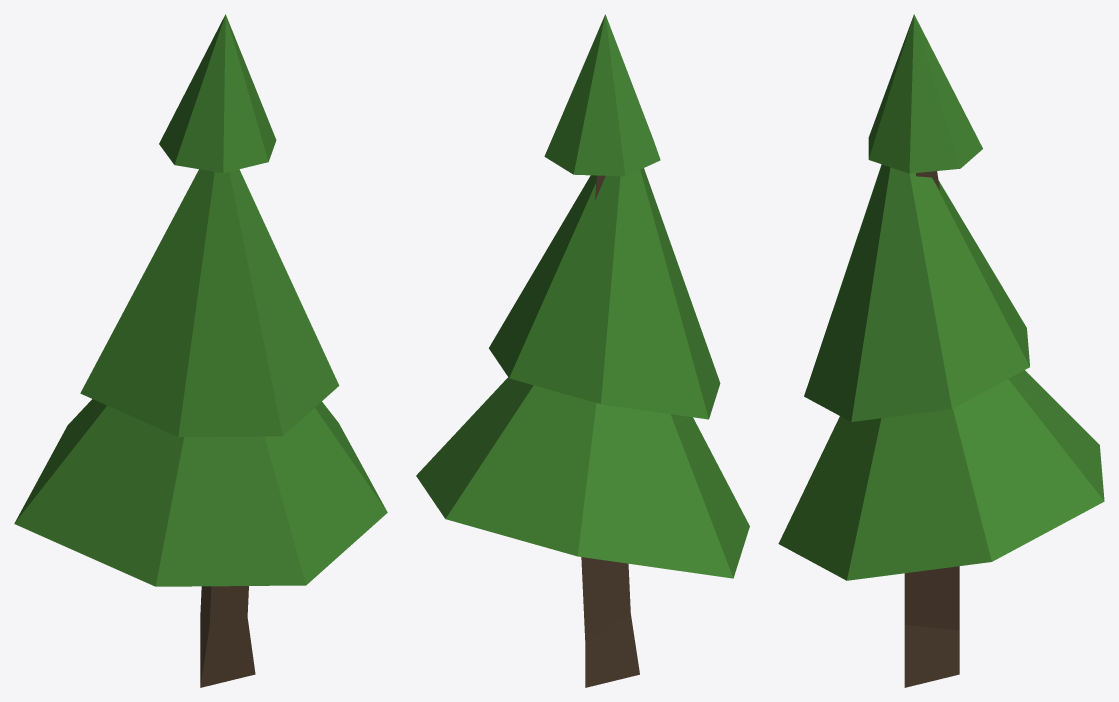
File: GrandPineTree.fbx
3 views of the same model, side by side, from view 1: azimuth 30°, elevation 25°; view 2: azimuth 150°, elevation 25°; view 3: azimuth 270°, elevation 25° (orthographic).
Parts seen in each view (by area): view 1: Cone, Cone.001; view 2: Cone, Cone.001; view 3: Cone, Cone.001.
Boxes of the visible parts, x1,y1,x2,y2 form: Cone: [14, 14, 387, 626]; Cone.001: [200, 617, 255, 687]; Cone: [416, 14, 749, 643]; Cone.001: [585, 613, 639, 687]; Cone: [778, 14, 1104, 630]; Cone.001: [904, 625, 959, 687].
Size of the model in its own units: 1011 by 1985 by 887.
